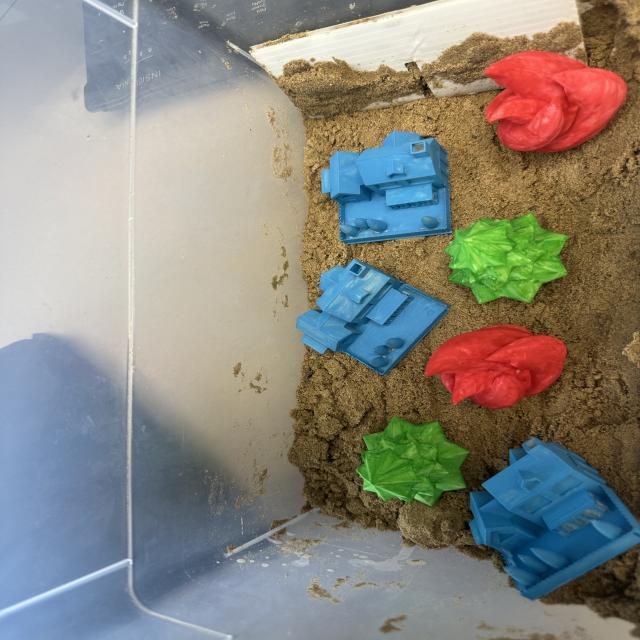fire: (480, 50, 630, 156), (424, 324, 568, 409)
house: (468, 436, 640, 603), (294, 257, 450, 378), (321, 130, 456, 246)
tree: (444, 212, 574, 304), (353, 414, 471, 509)
